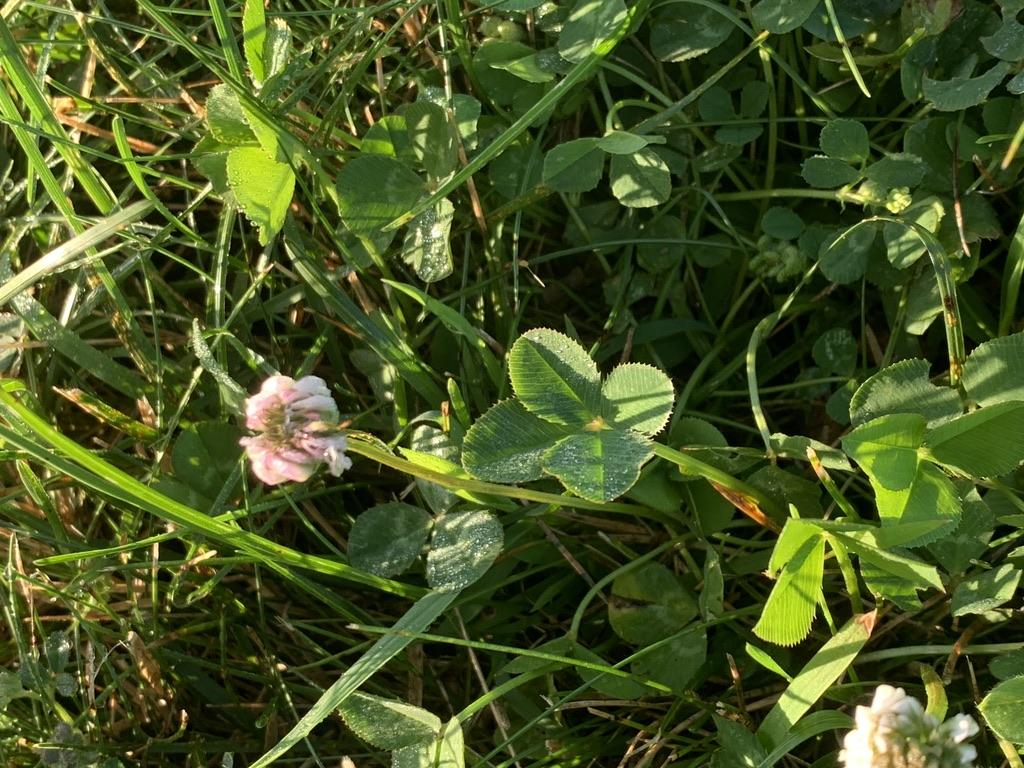4-Leaf-Clovers: (443, 262, 666, 423)
